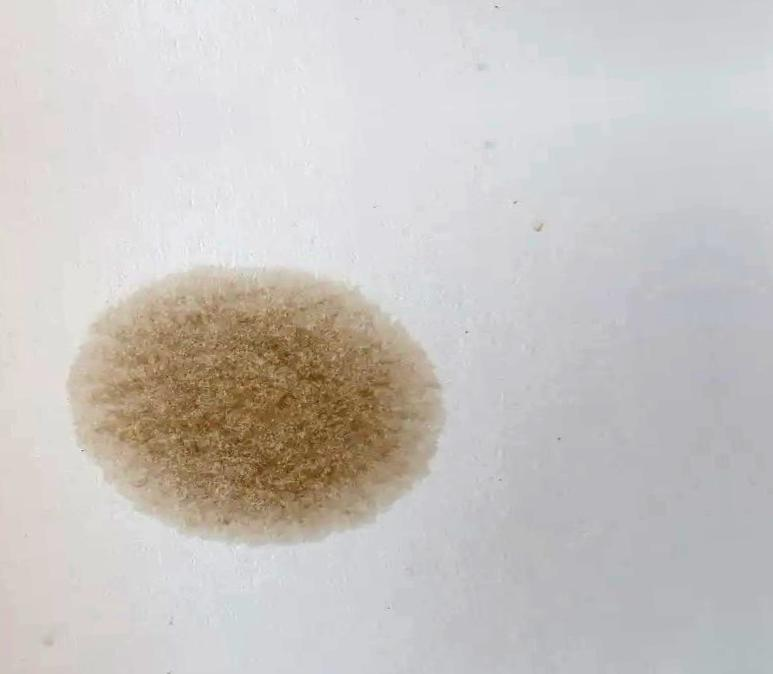stain: (67, 258, 454, 552)
